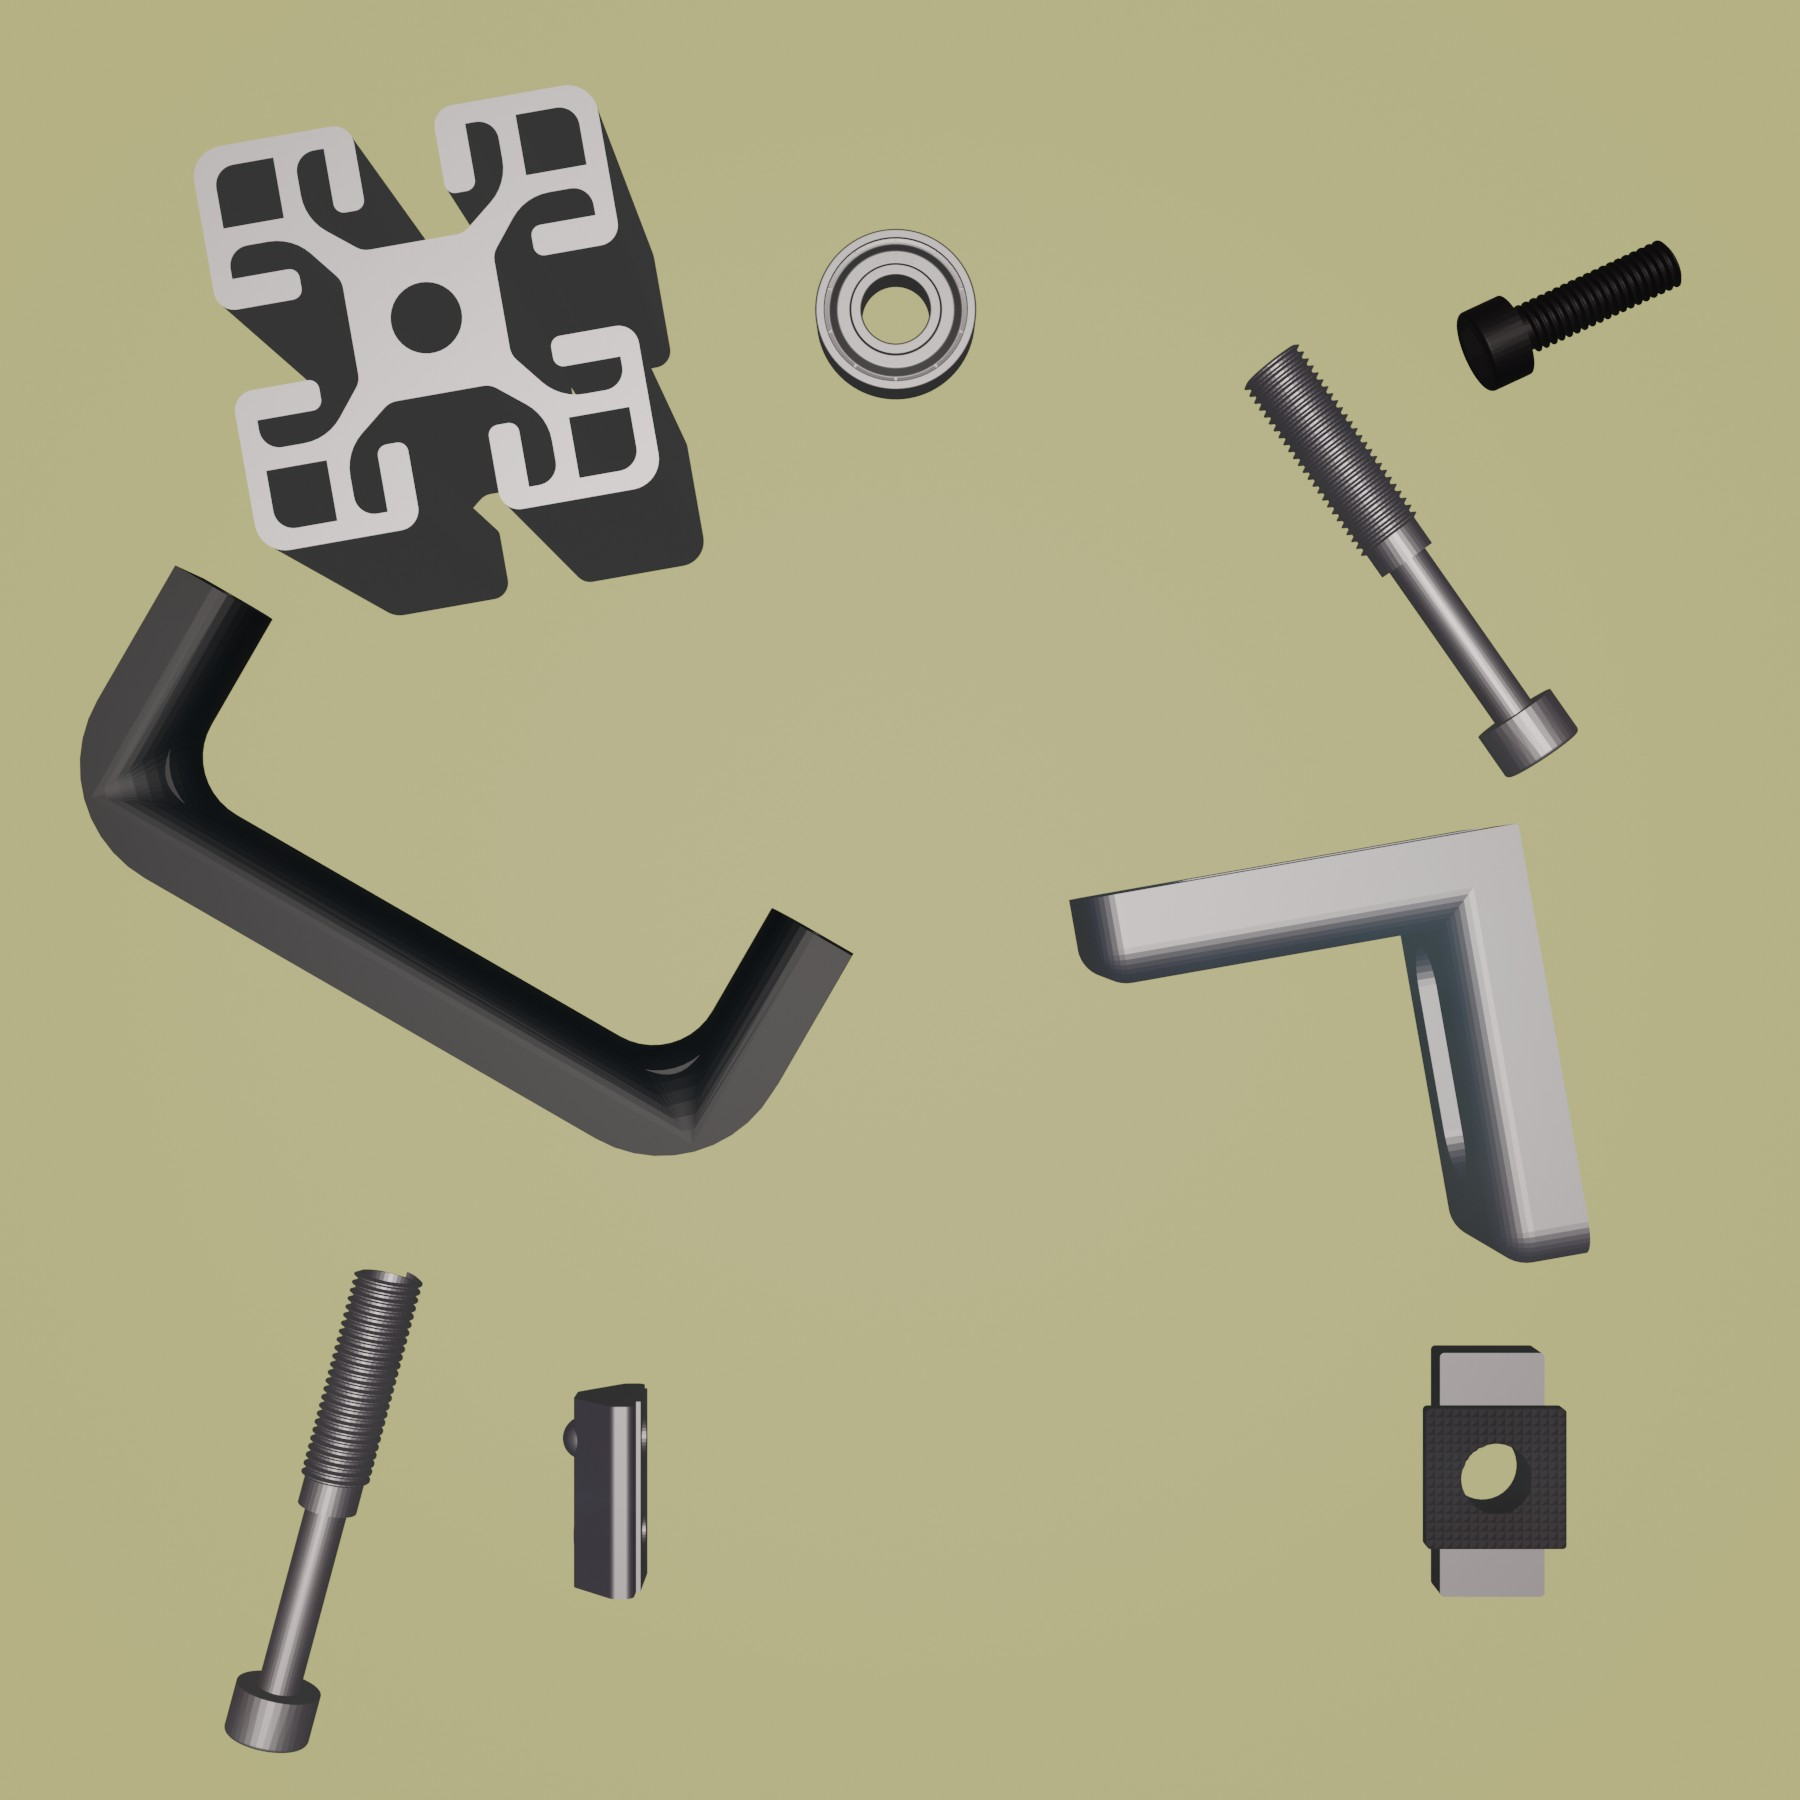Aluminium Extension: (191, 82, 705, 618)
Ball Bearing: (813, 223, 979, 401)
Multiwinkel: (1065, 819, 1592, 1268)
Pull Handle: (77, 560, 855, 1159)
Shoulder Socket Head Cap Screw: (1240, 341, 1582, 781), (219, 1261, 427, 1757)
Socket Head Cap Screw: (1454, 236, 1685, 396)
T Nut Square: (1416, 1343, 1571, 1605)
T Spring Nut: (559, 1376, 653, 1605)
